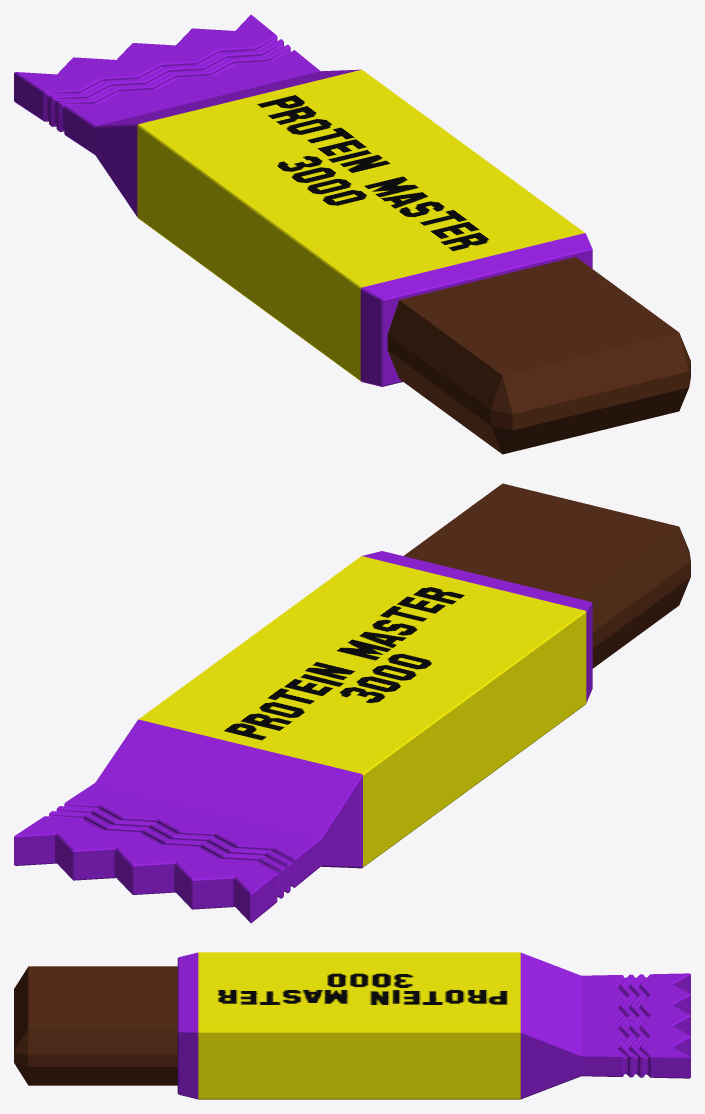
Rendered from ProteinBar.fbx.
3 views of the same model, one above another, from view 1: azimuth 30°, elevation 25°; view 2: azimuth 150°, elevation 25°; view 3: azimuth 270°, elevation 25° (orthographic). The views are drawn at different scales.
Visible parts, largest first — view 1: Papir, Hel Bar, Spist Bar; view 2: Papir, Hel Bar, Spist Bar; view 3: Papir, Hel Bar, Spist Bar.
Part boxes in pixels (<box>): Papir: <box>14,14,592,386</box>; Hel Bar: <box>387,257,690,454</box>; Spist Bar: <box>388,257,630,453</box>; Papir: <box>14,551,592,923</box>; Hel Bar: <box>405,483,690,668</box>; Spist Bar: <box>404,519,690,646</box>; Papir: <box>177,952,690,1099</box>; Hel Bar: <box>14,966,177,1085</box>; Spist Bar: <box>29,966,177,1066</box>.
Size of the model in its own units: 142 by 53.9 by 485.
Materials: 3 (1 with a texture image).
